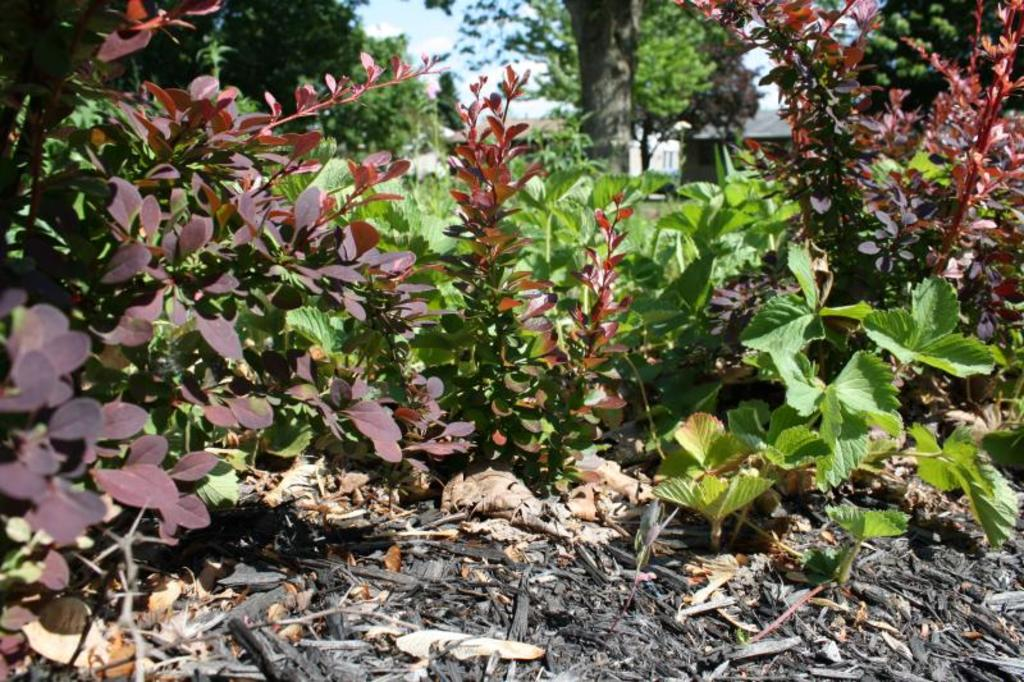Tree: (472, 0, 750, 170)
